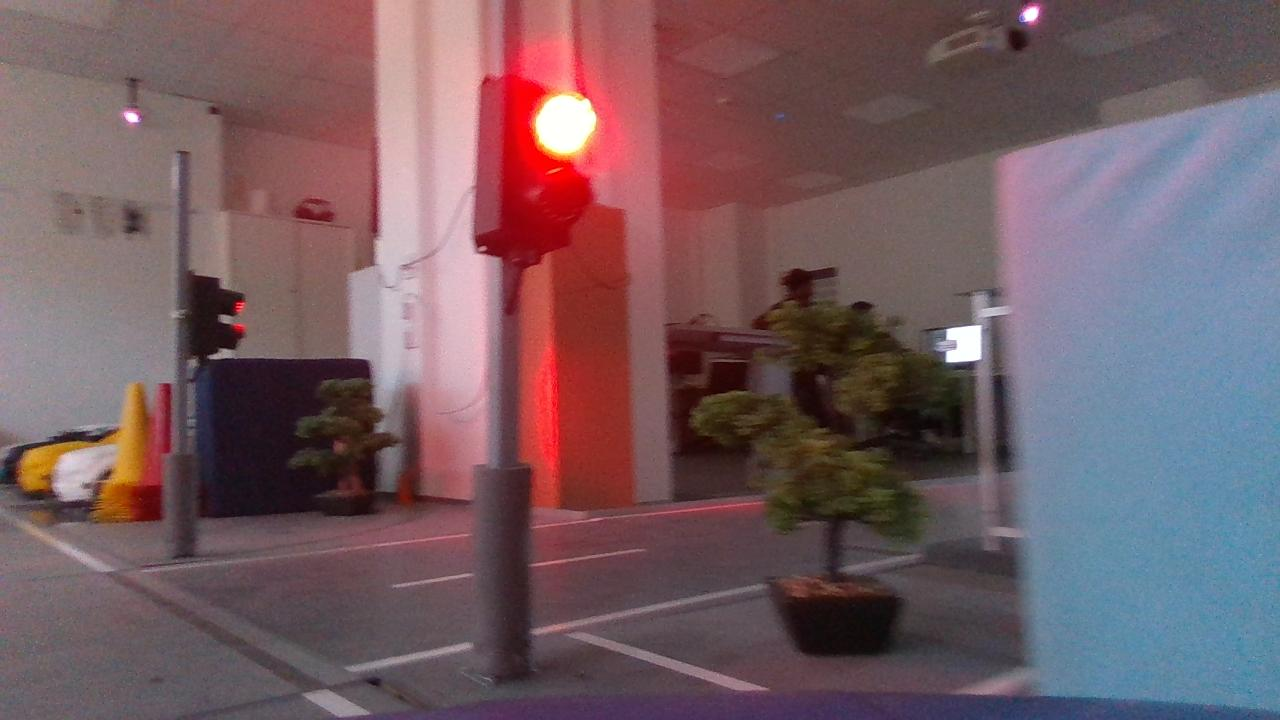traffic_light_red: (443, 66, 615, 263)
